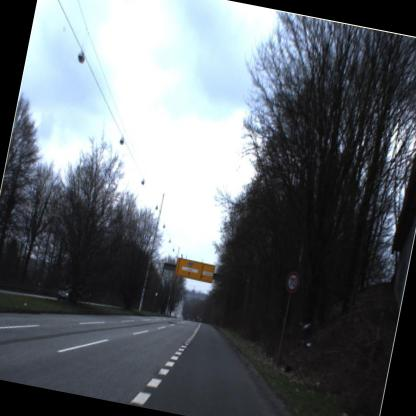prohibitory: (282, 266, 301, 294)
